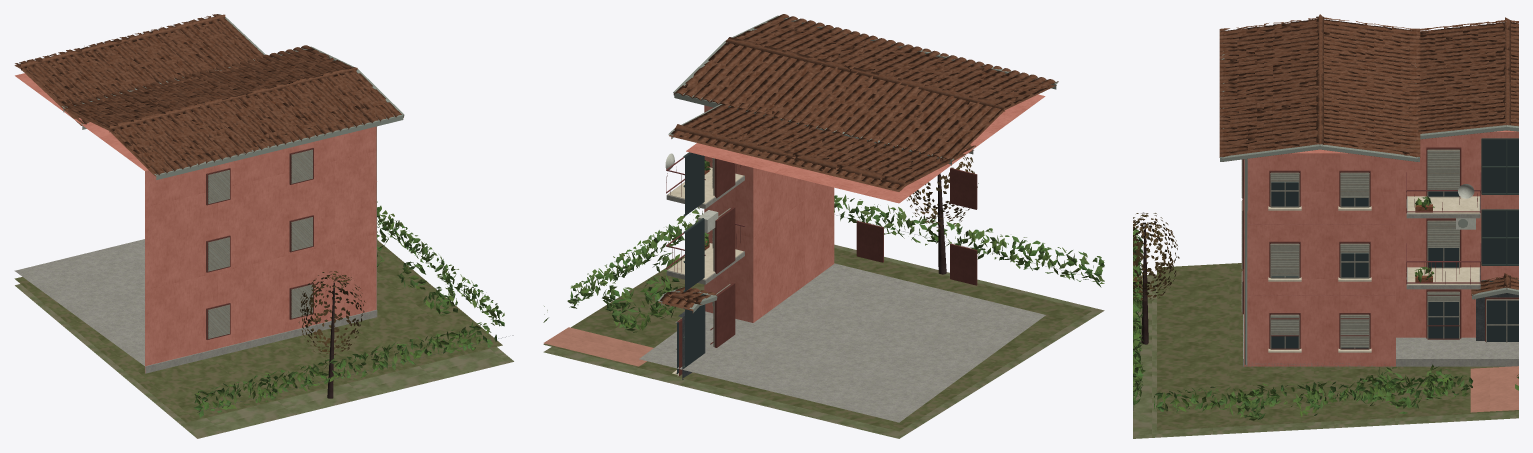
The model's file is -2_8_abb99ec7d7d8.glb.
3 views of the same model, side by side, from view 1: azimuth 30°, elevation 25°; view 2: azimuth 150°, elevation 25°; view 3: azimuth 270°, elevation 25° (orthographic). The views are drawn at different scales.
Bounding box in the file's own units: 16 × 12 × 16.
20 materials, 17 textured.
